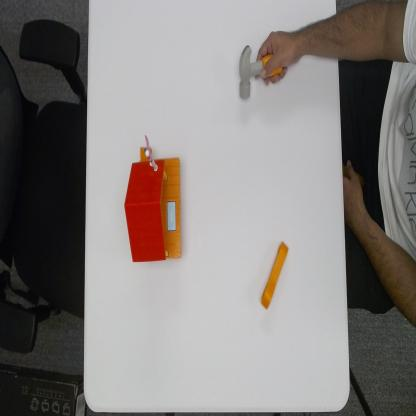Arm: (299, 9, 338, 62)
Hammer: (238, 43, 284, 100)
Hand: (256, 27, 300, 85)
House: (124, 131, 184, 265)
Screwdriver: (258, 237, 290, 311)
